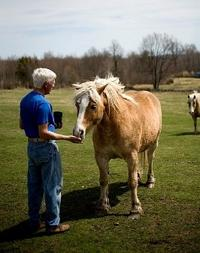person: (19, 68, 83, 235)
